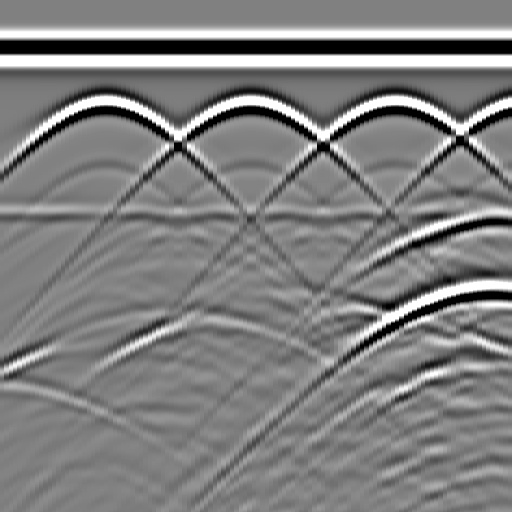grout_surface: (1, 200, 512, 230)
rebar: (84, 84, 124, 124), (228, 84, 268, 124), (372, 84, 412, 124), (502, 84, 512, 124)
rock_surface: (1, 290, 511, 389)
water_void: (463, 191, 512, 231)
